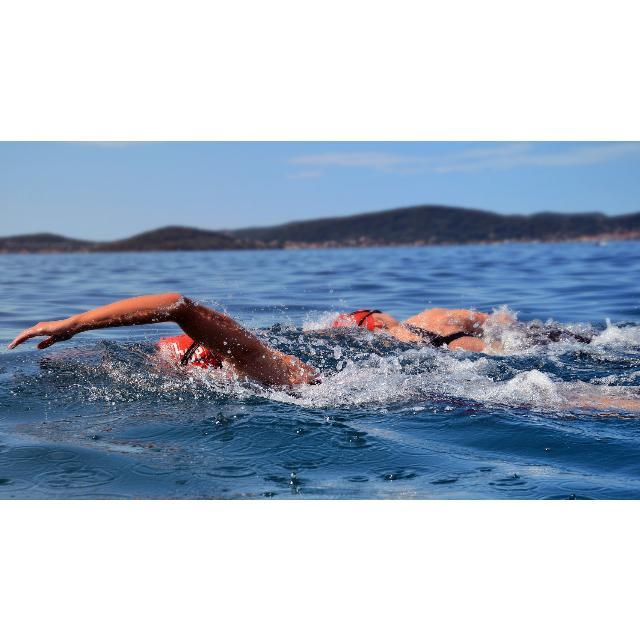human: (6, 292, 320, 389), (337, 305, 552, 362)
